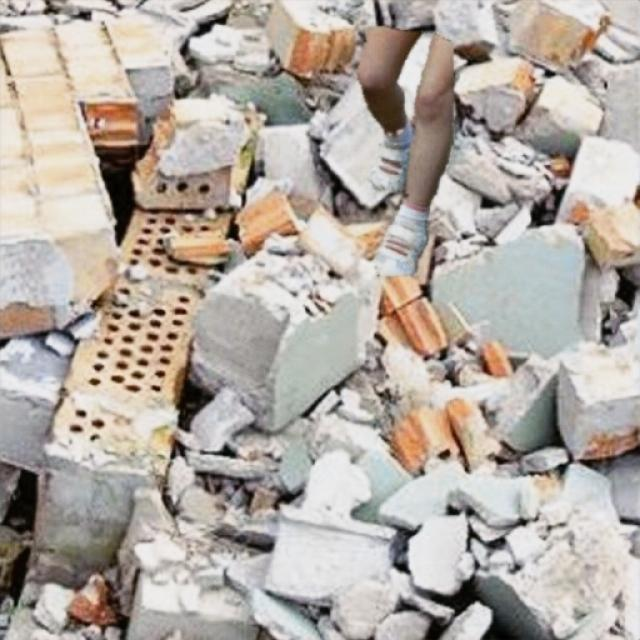Person in Rubble: (357, 26, 452, 275)
